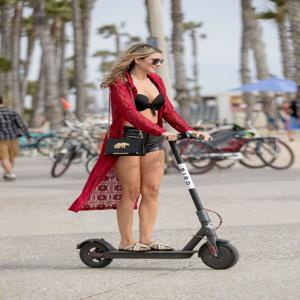human on a scooter: (67, 42, 239, 270)
